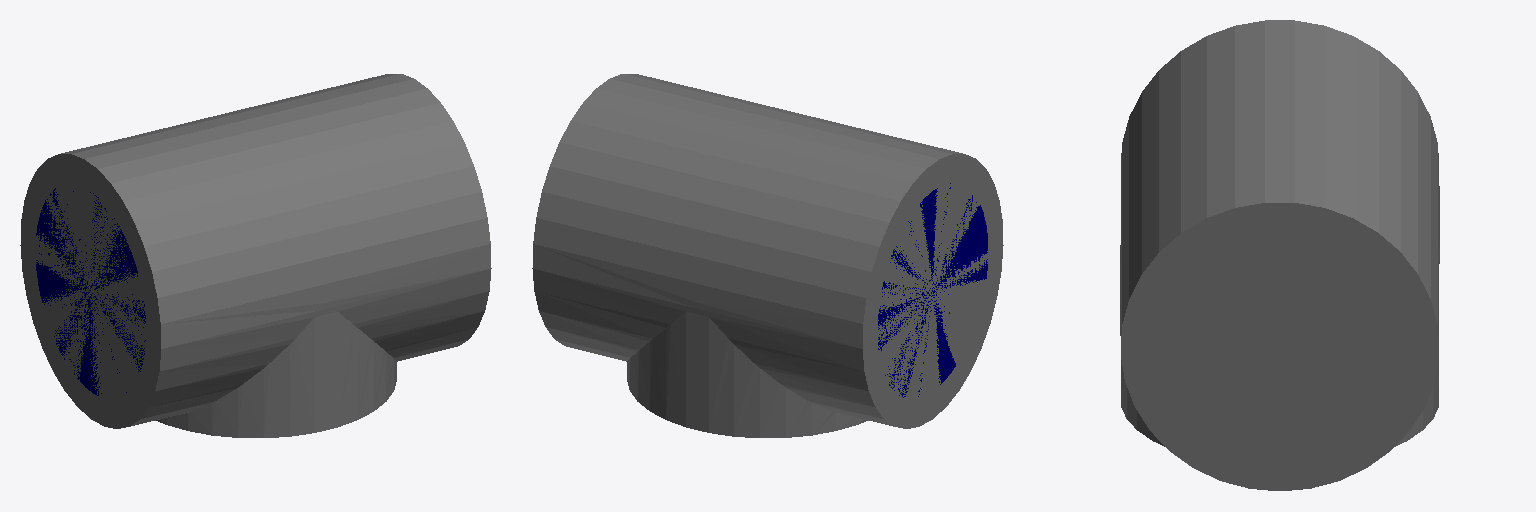
URDF robot description (corner_link-mm.SLDASM):
<?xml version="1.0" encoding="utf-8"?>
<!-- This URDF was automatically created by SolidWorks to URDF Exporter! Originally created by [author] ([email redacted]) 
     Commit Version: 1.6.0-4-g7f85cfe  Build Version: 1.6.7995.38578
     For more information, please see http://wiki.ros.org/sw_urdf_exporter -->
<robot
  name="corner_link-mm.SLDASM">
  <link
    name="cl_in_1">
    <inertial>
      <origin
        xyz="-6.9389E-18 8.3685E-09 0.044941"
        rpy="0 0 0" />
      <mass
        value="0.93066" />
      <inertia
        ixx="0.0011044"
        ixy="1.9911E-10"
        ixz="1.0654E-19"
        iyy="0.0017615"
        iyz="8.3821E-10"
        izz="0.0017462" />
    </inertial>
    <visual>
      <origin
        xyz="0 0 0"
        rpy="0 0 0" />
      <geometry>
        <mesh
          filename="package://corner_link-mm.SLDASM/meshes/cl_in_1.STL" />
      </geometry>
      <material
        name="blue">
        <color
          rgba="0 0 0.5 1" />
      </material>
    </visual>
    <collision>
      <origin
        xyz="0 0 0"
        rpy="0 0 0" />
      <geometry>
        <mesh
          filename="package://corner_link-mm.SLDASM/meshes/cl_in_1.STL" />
      </geometry>
    </collision>
  </link>
  <link
    name="cl_body">
    <inertial>
      <origin
        xyz="-1.7347E-18 -5.8806E-08 0.044943"
        rpy="0 0 0" />
      <mass
        value="0.93065" />
      <inertia
        ixx="0.0011044"
        ixy="1.9911E-10"
        ixz="9.889E-20"
        iyy="0.0017615"
        iyz="8.3821E-10"
        izz="0.0017462" />
    </inertial>
    <visual>
      <origin
        xyz="0 0 0"
        rpy="0 0 0" />
      <geometry>
        <mesh
          filename="package://corner_link-mm.SLDASM/meshes/cl_body.STL" />
      </geometry>
      <material
        name="body">
        <color
          rgba="0.5 0.5 0.5 1" />
      </material>
    </visual>
    <collision>
      <origin
        xyz="0 0 0"
        rpy="0 0 0" />
      <geometry>
        <mesh
          filename="package://corner_link-mm.SLDASM/meshes/cl_body.STL" />
      </geometry>
    </collision>
  </link>
  <joint
    name="cl_medium_1"
    type="fixed">
    <origin
      xyz="0 0 0"
      rpy="0 0 0" />
    <parent
      link="cl_in_1" />
    <child
      link="cl_body" />
    <axis
      xyz="0 0 0" />
  </joint>
  <link
    name="cl_in_2">
    <inertial>
      <origin
        xyz="0.0020588 8.3685E-09 0.0635"
        rpy="0 0 0" />
      <mass
        value="0.93066" />
      <inertia
        ixx="0.0017462"
        ixy="-8.3821E-10"
        ixz="1.078E-20"
        iyy="0.0017615"
        iyz="1.9911E-10"
        izz="0.0011044" />
    </inertial>
    <visual>
      <origin
        xyz="0 0 0"
        rpy="0 0 0" />
      <geometry>
        <mesh
          filename="package://corner_link-mm.SLDASM/meshes/cl_in_2.STL" />
      </geometry>
      <material
        name="blue">
        <color
          rgba="0 0 0.5 1" />
      </material>
    </visual>
    <collision>
      <origin
        xyz="0 0 0"
        rpy="0 0 0" />
      <geometry>
        <mesh
          filename="package://corner_link-mm.SLDASM/meshes/cl_in_2.STL" />
      </geometry>
    </collision>
  </link>
  <joint
    name="cl_medium_2"
    type="fixed">
    <origin
      xyz="-0.0635 0 0.047"
      rpy="0 1.5707963267949 0" />
    <parent
      link="cl_body" />
    <child
      link="cl_in_2" />
    <axis
      xyz="0 0 0" />
  </joint>
</robot>

--- Facts derived from the render (not from the file) ---
The picture shows the robot from 3 angles, left to right: view 1: azimuth 30°, elevation 25°; view 2: azimuth 150°, elevation 25°; view 3: azimuth 270°, elevation 25°; orthographic projection.
Model corner_link-mm.SLDASM with 3 links and 2 joints (2 fixed), rooted at cl_in_1, posed every joint at zero.
Visible links, largest first — view 1: cl_body, cl_in_2; view 2: cl_body, cl_in_2; view 3: cl_body.
Boxes of the visible links, <box> form: cl_body: <box>20,74,491,437</box>; cl_in_2: <box>36,188,145,395</box>; cl_body: <box>532,74,1003,437</box>; cl_in_2: <box>878,183,987,397</box>; cl_body: <box>1120,20,1439,490</box>.
Bounding box of the posed robot: 0.127 × 0.094 × 0.0938 m (x, y, z).
Meshes: 3 distinct files referenced, 3 mesh visuals loaded (3 binary STL).